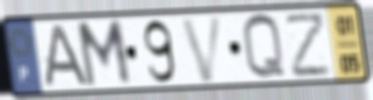9: (141, 18, 178, 85)
A: (39, 23, 92, 88)
M: (74, 17, 135, 91)
Q: (240, 11, 289, 83)
V: (178, 13, 226, 85)
Z: (283, 10, 334, 81)
